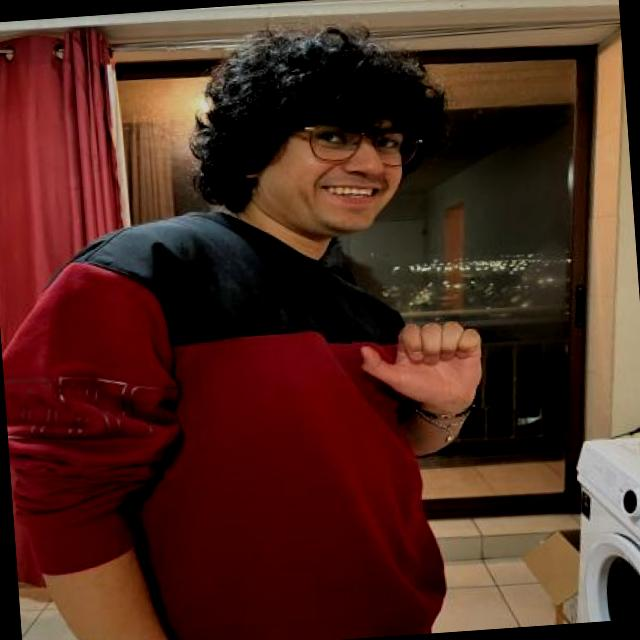E: (350, 315, 498, 417)
